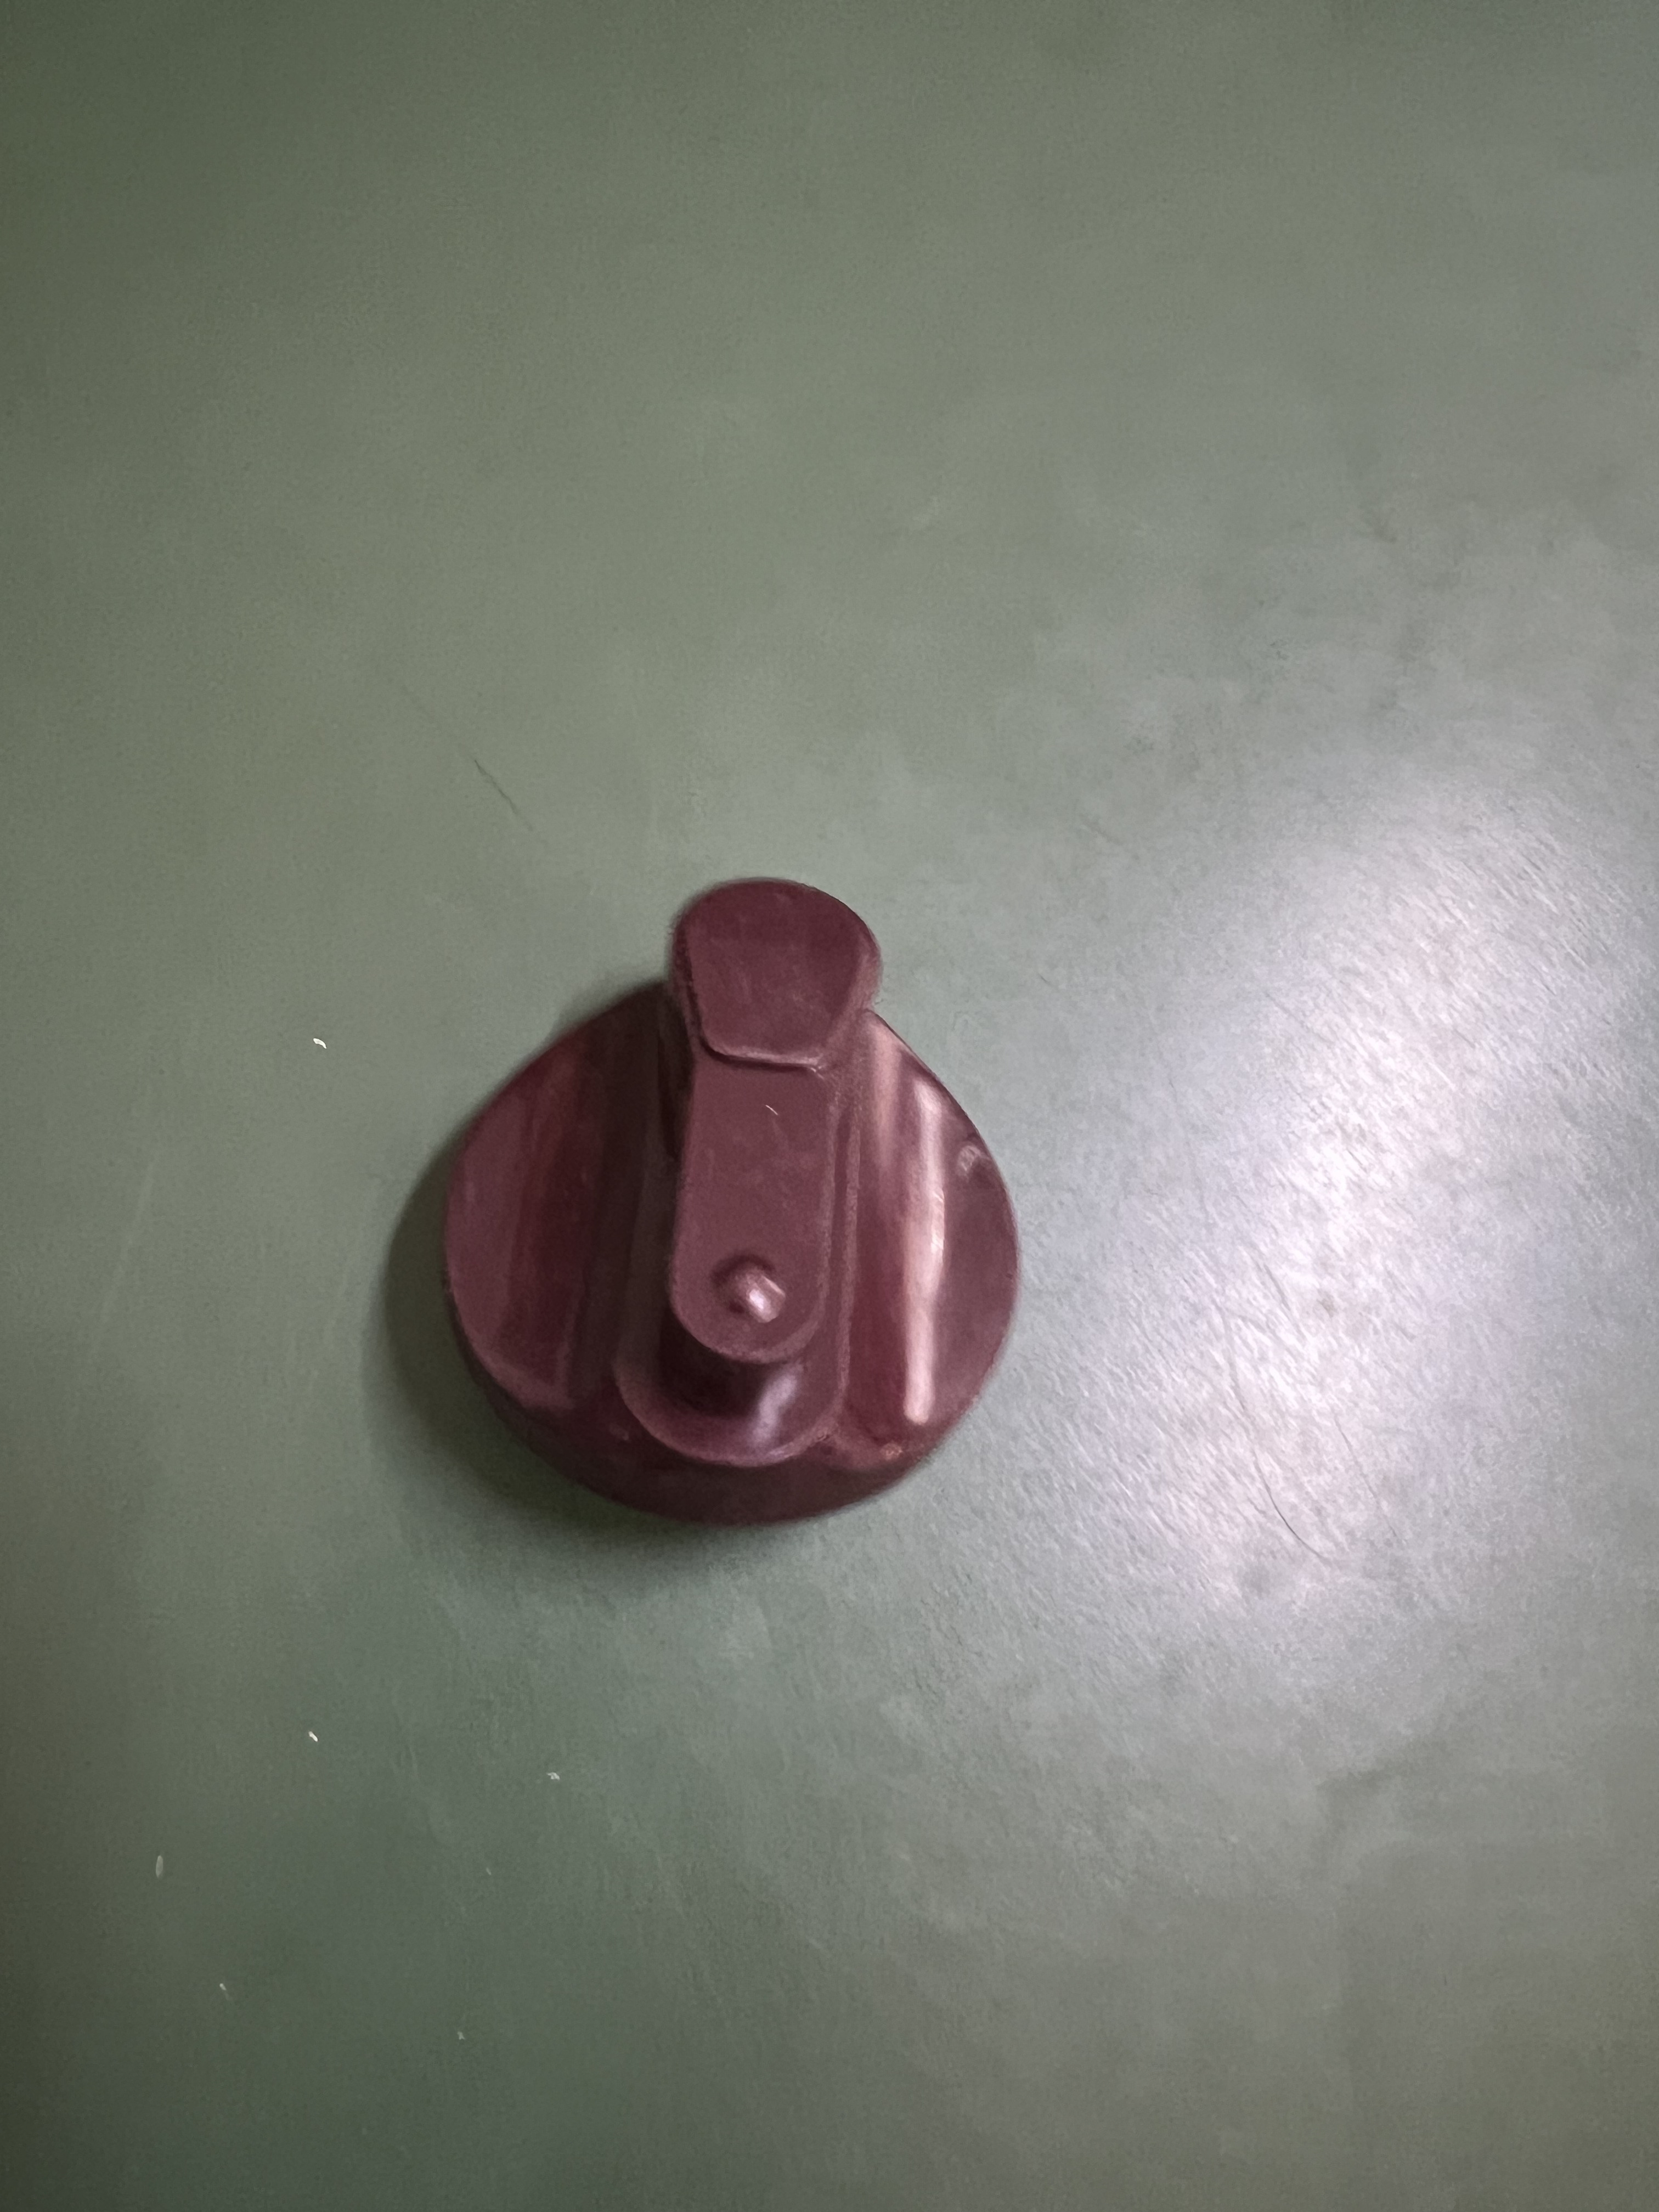regulator: (423, 860, 1021, 1548)
